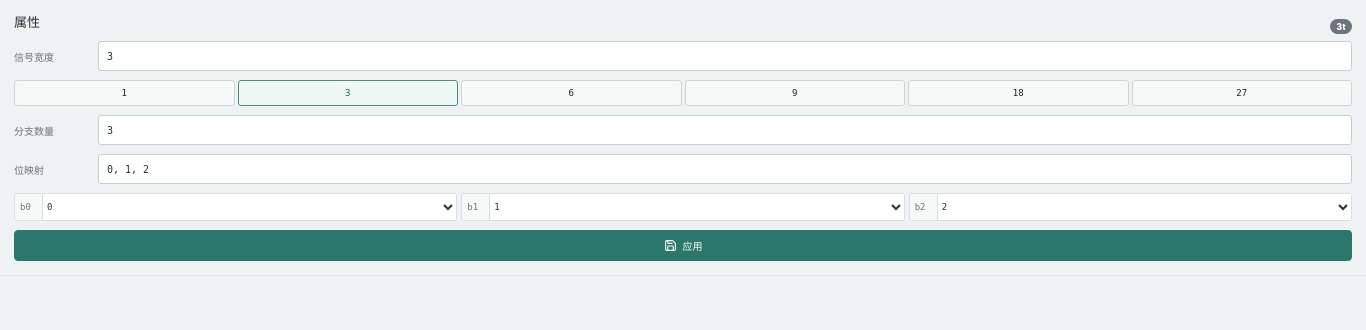
Test: PropertyEditor › keeps drafts visible and reports a stable Chinese validation error
Replace the text in the field labelled "位映射" with "0, 0, 0". click: (725,169)
box: [98,154,1352,184]
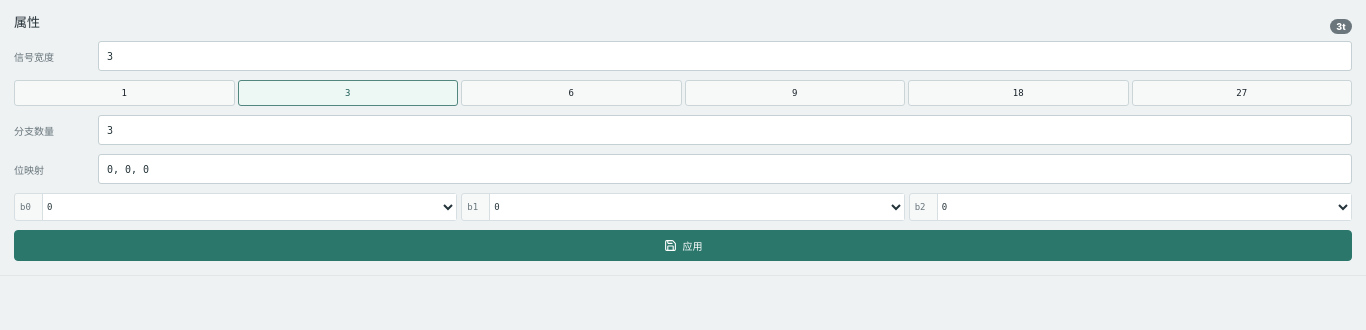
Click the button with aria-label "应用属性". click: (683,246)
box: [14,230,1352,261]
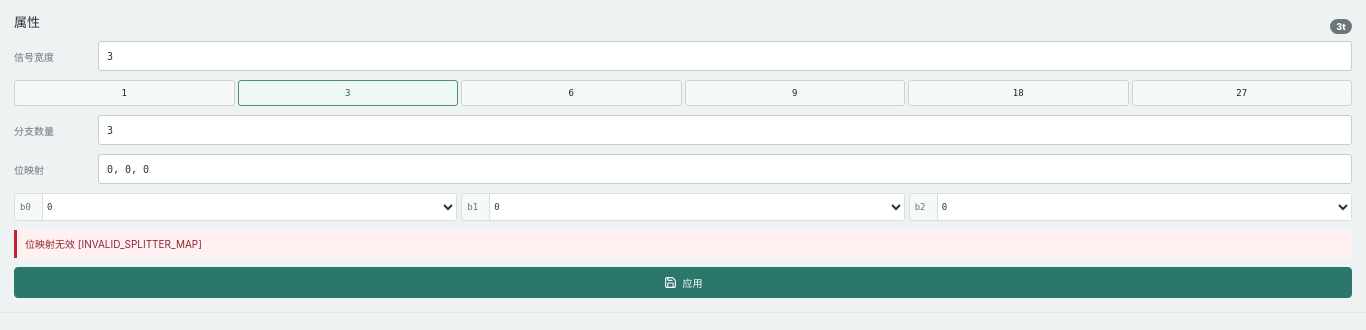
Check: the message reads "位映射无效 [INVALID_SPLITTER_MAP]", box [25,238,202,250]
